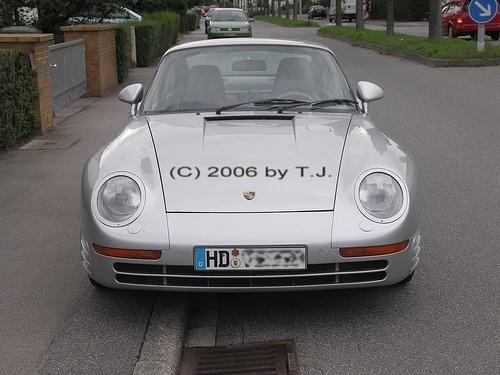car: (80, 39, 422, 293), (441, 1, 500, 37), (209, 8, 253, 36), (309, 5, 329, 21)
